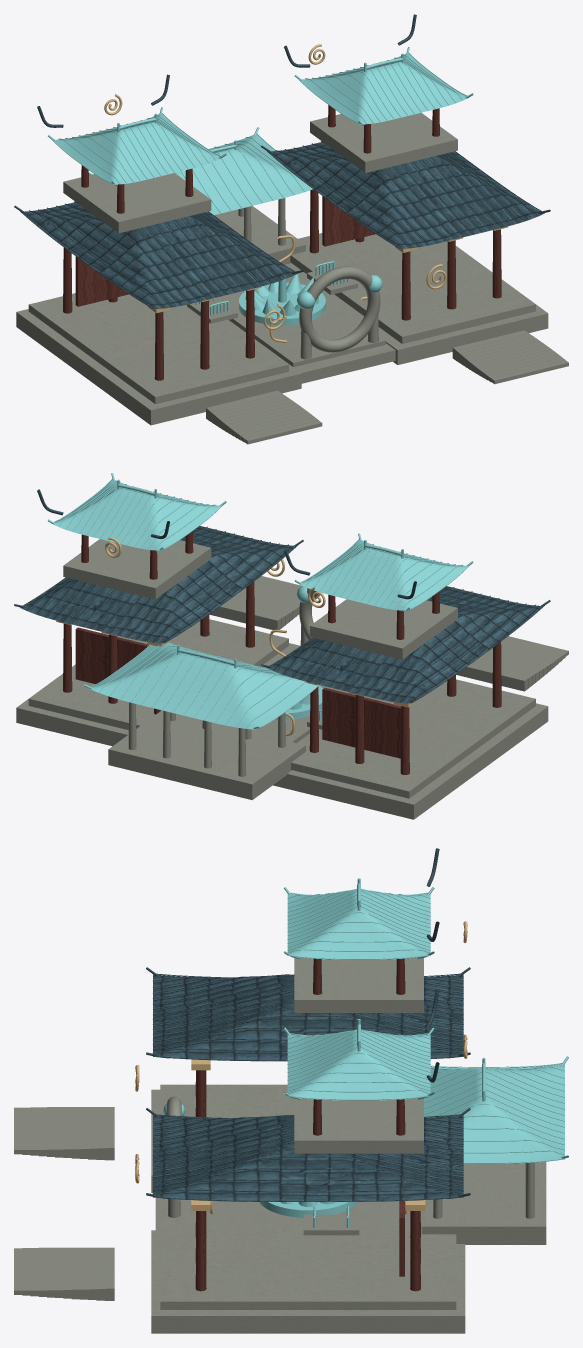
File: QY-GEOGRAPHY-001-R65-region-05-native.glb
The picture shows the model from 3 angles, top to bottom: view 1: azimuth 30°, elevation 25°; view 2: azimuth 150°, elevation 25°; view 3: azimuth 270°, elevation 25°; orthographic projection. The views are drawn at different scales.
Visible parts, largest first — view 1: 05_RIGHT_LARGE_CELADON_CURVED_ROOF_CURVED_CELADON_ROOF_REAL_, 05_LEFT_LARGE_CELADON_CURVED_ROOF_CURVED_CELADON_ROOF_REAL_T, 05_WING_CARVED_COURT_TERRACE, 05_UPPER_JADE_SKY_PAVILION_TILED_EAVES_CURVED_CELADON_ROOF_R (×2), 05_WING_CARVED_COURT_TERRACE.001, 05_WING_IVORY_HIPPED_STONE_FOUNDATION.001, 05_REAR_ARCHIVE_JADE_BLUE_CROSSED_HIP_ROOF_CURVED_CELADON_RO, 05_UPPER_STUDIO_IVORY_BALCONY, 05_UPPER_STUDIO_IVORY_BALCONY.001, 05_COURT_WHITE_STONE_PERIMETER, 05_WING_IVORY_HIPPED_STONE_FOUNDATION, 05_GENUINE_OPEN_STONE_MOON_GATE_FRONT (+15 smaller); view 2: 05_UPPER_JADE_SKY_PAVILION_TILED_EAVES_CURVED_CELADON_ROOF_R (×2), 05_LEFT_LARGE_CELADON_CURVED_ROOF_CURVED_CELADON_ROOF_REAL_T, 05_RIGHT_LARGE_CELADON_CURVED_ROOF_CURVED_CELADON_ROOF_REAL_, 05_WING_CARVED_COURT_TERRACE, 05_REAR_ARCHIVE_JADE_BLUE_CROSSED_HIP_ROOF_CURVED_CELADON_RO, 05_SOUTH_ARCHIVE_STONE_PODIUM, 05_WING_CARVED_COURT_TERRACE.001, 05_WING_IVORY_HIPPED_STONE_FOUNDATION.001, 05_UPPER_STUDIO_IVORY_BALCONY, 05_UPPER_STUDIO_IVORY_BALCONY.001, 05_WING_RECESSED_WOODEN_BACK_WALL.001, 05_WING_IVORY_HIPPED_STONE_FOUNDATION (+11 smaller); view 3: 05_WING_CARVED_COURT_TERRACE.001, 05_RIGHT_LARGE_CELADON_CURVED_ROOF_CURVED_CELADON_ROOF_REAL_, 05_UPPER_JADE_SKY_PAVILION_TILED_EAVES_CURVED_CELADON_ROOF_R (×2), 05_LEFT_LARGE_CELADON_CURVED_ROOF_CURVED_CELADON_ROOF_REAL_T, 05_REAR_ARCHIVE_JADE_BLUE_CROSSED_HIP_ROOF_CURVED_CELADON_RO, 05_WING_IVORY_HIPPED_STONE_FOUNDATION, 05_SOUTH_ARCHIVE_STONE_PODIUM, 05_UPPER_STUDIO_IVORY_BALCONY.001, 05_UPPER_STUDIO_IVORY_BALCONY, 05_WING_CARVED_COURT_TERRACE, 05_COURT_WHITE_STONE_PERIMETER, 05_GARDEN_ACTUAL_STONE_WALKWAY.001 (+3 smaller).
Boxes of the visible parts, box(x1,y1,x2,y2) form: 05_RIGHT_LARGE_CELADON_CURVED_ROOF_CURVED_CELADON_ROOF_REAL_: box(270, 142, 544, 248); 05_LEFT_LARGE_CELADON_CURVED_ROOF_CURVED_CELADON_ROOF_REAL_T: box(23, 202, 297, 308); 05_WING_CARVED_COURT_TERRACE: box(28, 293, 288, 404); 05_UPPER_JADE_SKY_PAVILION_TILED_EAVES_CURVED_CELADON_ROOF_R (×2): box(54, 53, 467, 184); 05_WING_CARVED_COURT_TERRACE.001: box(290, 233, 535, 343); 05_WING_IVORY_HIPPED_STONE_FOUNDATION.001: box(16, 309, 301, 425); 05_REAR_ARCHIVE_JADE_BLUE_CROSSED_HIP_ROOF_CURVED_CELADON_RO: box(175, 134, 312, 214); 05_UPPER_STUDIO_IVORY_BALCONY: box(63, 173, 211, 233); 05_UPPER_STUDIO_IVORY_BALCONY.001: box(310, 112, 457, 172); 05_COURT_WHITE_STONE_PERIMETER: box(217, 276, 385, 367); 05_WING_IVORY_HIPPED_STONE_FOUNDATION: box(284, 250, 548, 364); 05_GENUINE_OPEN_STONE_MOON_GATE_FRONT: box(299, 266, 380, 352); 05_UPPER_JADE_SKY_PAVILION_TILED_EAVES_CURVED_CELADON_ROOF_R (×2): box(52, 480, 467, 610); 05_LEFT_LARGE_CELADON_CURVED_ROOF_CURVED_CELADON_ROOF_REAL_T: box(267, 586, 541, 703); 05_RIGHT_LARGE_CELADON_CURVED_ROOF_CURVED_CELADON_ROOF_REAL_: box(20, 526, 294, 643); 05_WING_CARVED_COURT_TERRACE: box(291, 679, 535, 798); 05_REAR_ARCHIVE_JADE_BLUE_CROSSED_HIP_ROOF_CURVED_CELADON_RO: box(89, 642, 318, 729); 05_SOUTH_ARCHIVE_STONE_PODIUM: box(108, 710, 305, 800); 05_WING_CARVED_COURT_TERRACE.001: box(28, 619, 288, 729); 05_WING_IVORY_HIPPED_STONE_FOUNDATION.001: box(273, 703, 548, 819); 05_UPPER_STUDIO_IVORY_BALCONY: box(310, 599, 457, 659); 05_UPPER_STUDIO_IVORY_BALCONY.001: box(63, 539, 211, 599); 05_WING_RECESSED_WOODEN_BACK_WALL.001: box(322, 687, 401, 758); 05_WING_IVORY_HIPPED_STONE_FOUNDATION: box(16, 643, 300, 746); 05_WING_CARVED_COURT_TERRACE.001: box(160, 1225, 456, 1309); 05_RIGHT_LARGE_CELADON_CURVED_ROOF_CURVED_CELADON_ROOF_REAL_: box(153, 1115, 463, 1201); 05_UPPER_JADE_SKY_PAVILION_TILED_EAVES_CURVED_CELADON_ROOF_R (×2): box(287, 889, 430, 1100); 05_LEFT_LARGE_CELADON_CURVED_ROOF_CURVED_CELADON_ROOF_REAL_T: box(153, 974, 463, 1061); 05_REAR_ARCHIVE_JADE_BLUE_CROSSED_HIP_ROOF_CURVED_CELADON_RO: box(424, 1064, 564, 1163); 05_WING_IVORY_HIPPED_STONE_FOUNDATION: box(151, 1230, 465, 1333); 05_SOUTH_ARCHIVE_STONE_PODIUM: box(421, 1161, 546, 1244); 05_UPPER_STUDIO_IVORY_BALCONY.001: box(294, 1098, 423, 1153); 05_UPPER_STUDIO_IVORY_BALCONY: box(294, 957, 423, 1012); 05_WING_CARVED_COURT_TERRACE: box(160, 1084, 294, 1117); 05_COURT_WHITE_STONE_PERIMETER: box(174, 1199, 421, 1225); 05_GARDEN_ACTUAL_STONE_WALKWAY.001: box(303, 1214, 359, 1235).
Size of the model in its own units: 116 by 63.27 by 120.
5 materials, 3 textured.
